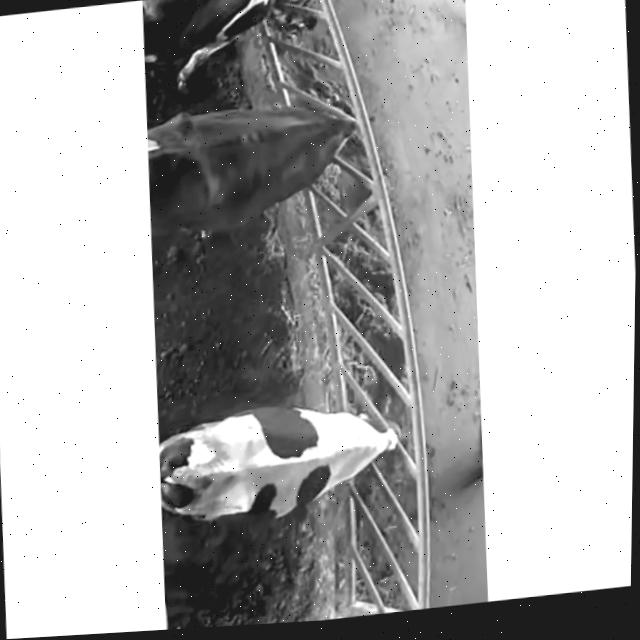eat: (251, 66, 412, 196), (308, 379, 473, 496), (199, 0, 370, 47)
